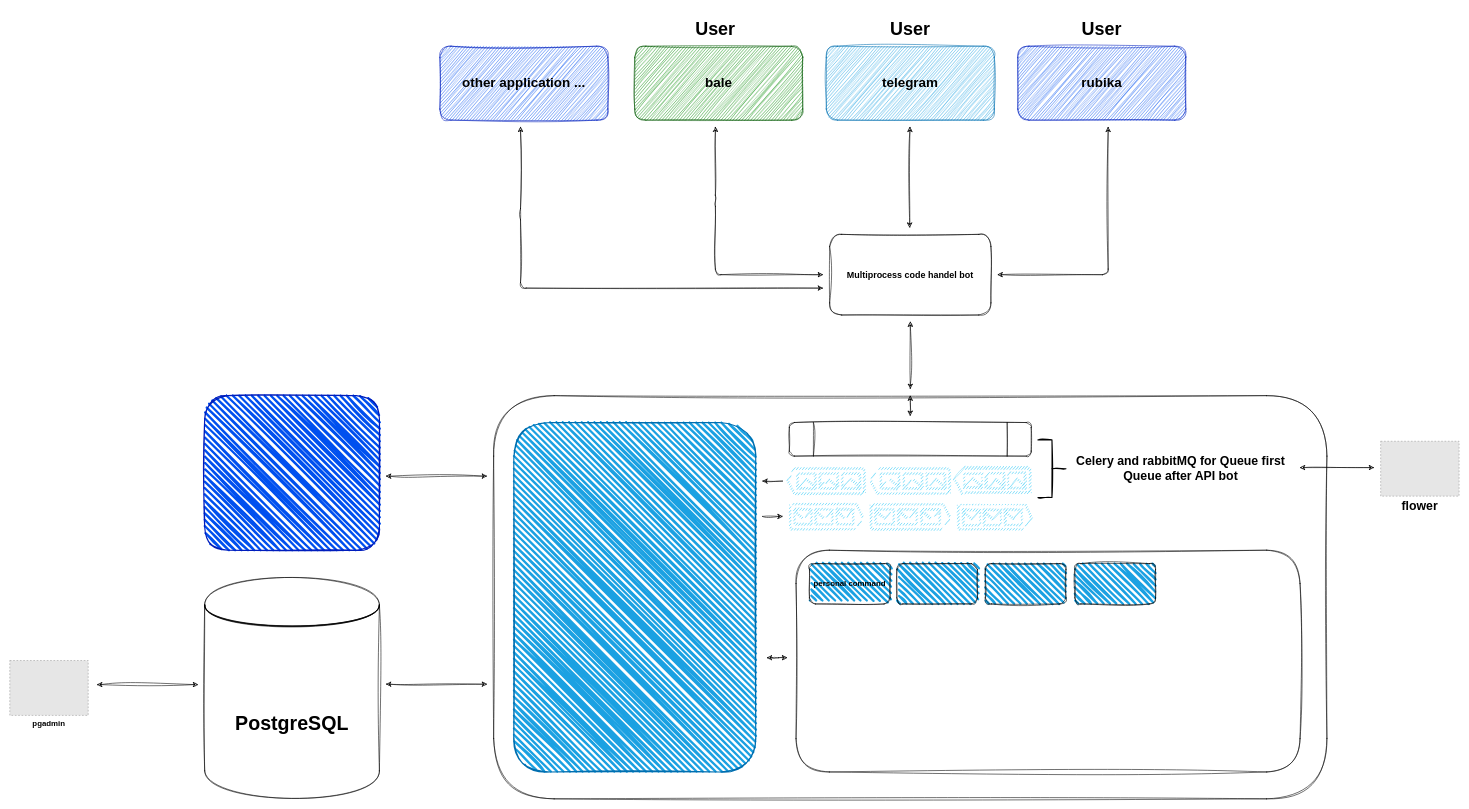
Image size: 1469x809. Some labels were removed from this diagram. Grey dashed boxes stand in for pictures. Each missing label, with the centre of its shape:
Bot Platform API: point (910, 439)
Docker: point (634, 597)
MinIO / S3: point (292, 472)
